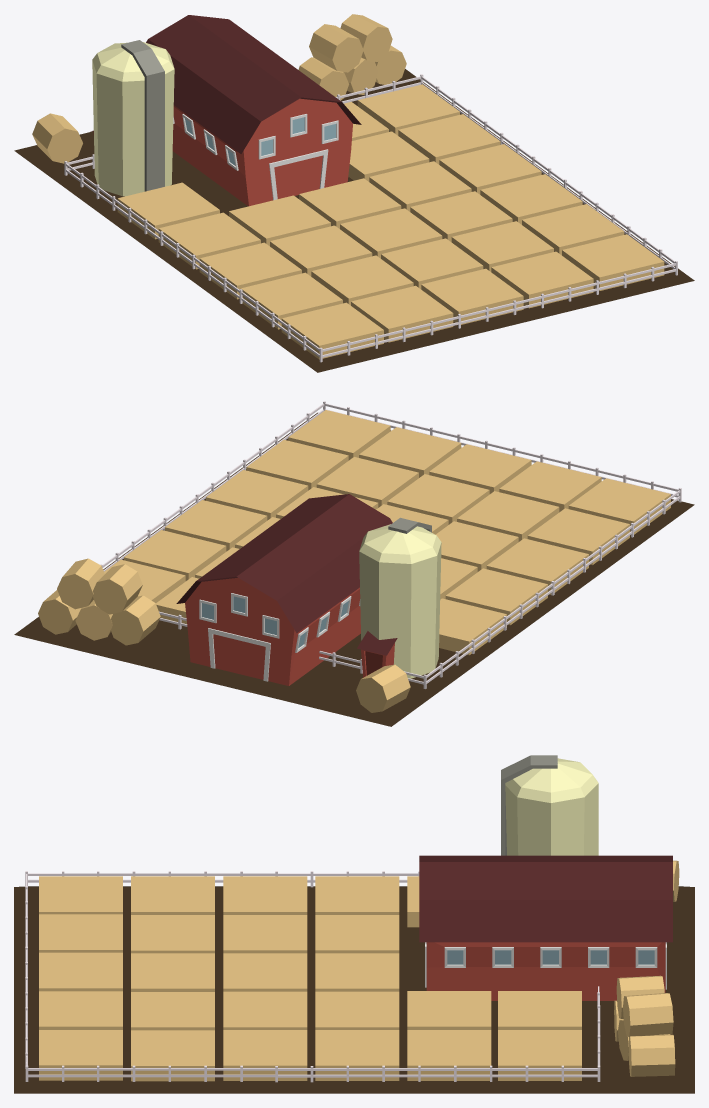
Rendered from farm.fbx.
3 views of the same model, one above another, from view 1: azimuth 30°, elevation 25°; view 2: azimuth 150°, elevation 25°; view 3: azimuth 270°, elevation 25° (orthographic). The views are drawn at different scales.
Visible parts, largest first — view 1: Farm; view 2: Farm; view 3: Farm.
Boxes of the visible parts, x1,y1,x2,y2 form: Farm: (14, 14, 694, 372); Farm: (14, 401, 694, 726); Farm: (14, 755, 694, 1093).
Size of the model in its own units: 2045 by 726 by 2850.
